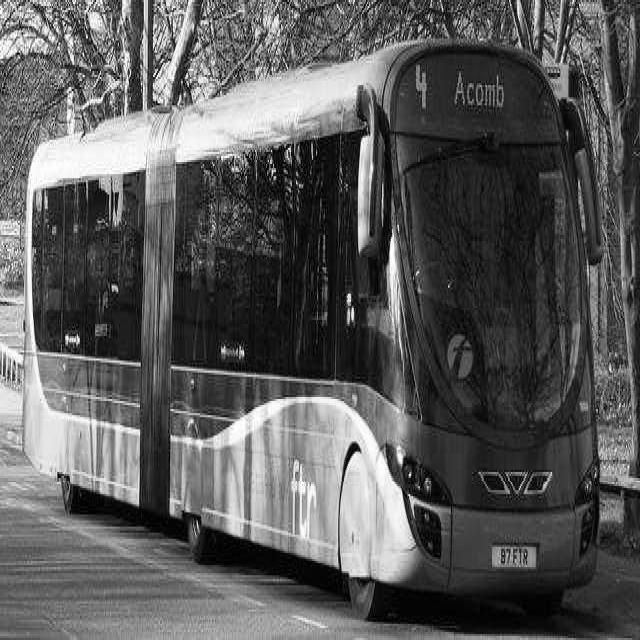Bus: (24, 40, 601, 614)
